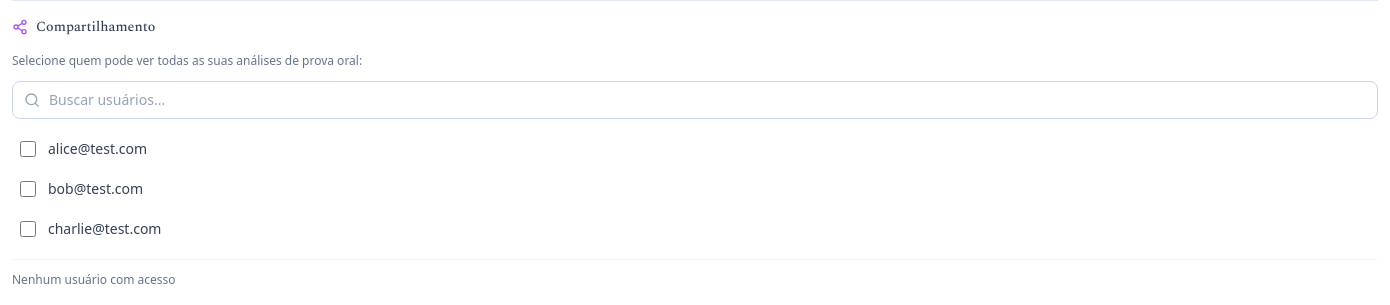
Scenario: SharingSection › Status Indicators › should update count when toggling users
Expected: the text "Nenhum usuário com acesso" is shown, [12, 271, 176, 288]
Click the checkbox labelled "bob@test.com" at coordinates (28, 189), box [20, 181, 36, 197]
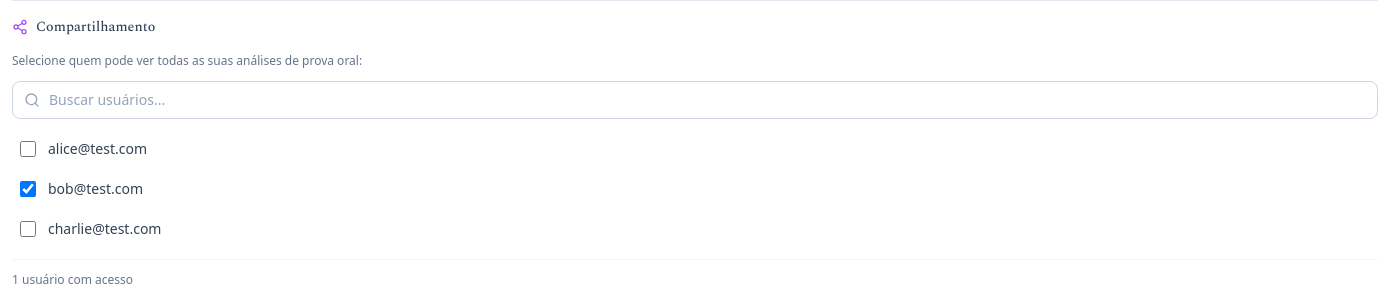
Expected: the text "1 usuário com acesso" is shown, [12, 271, 133, 288]
